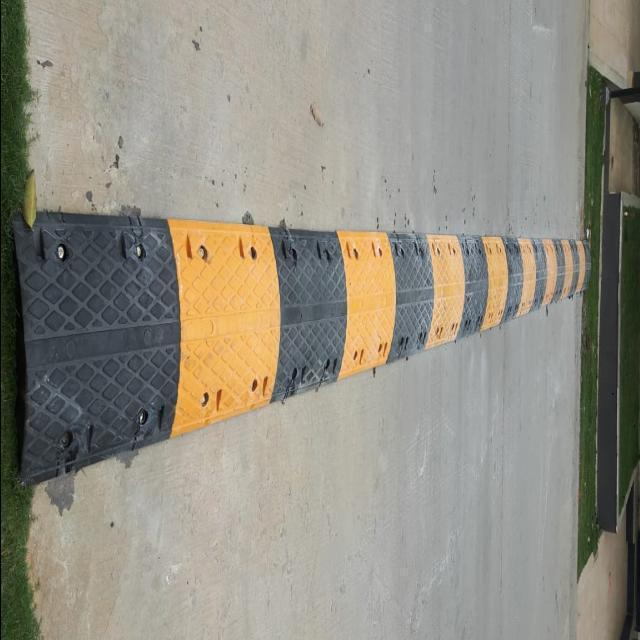Speed_Breaker: (0, 182, 594, 494), (15, 184, 595, 483)
